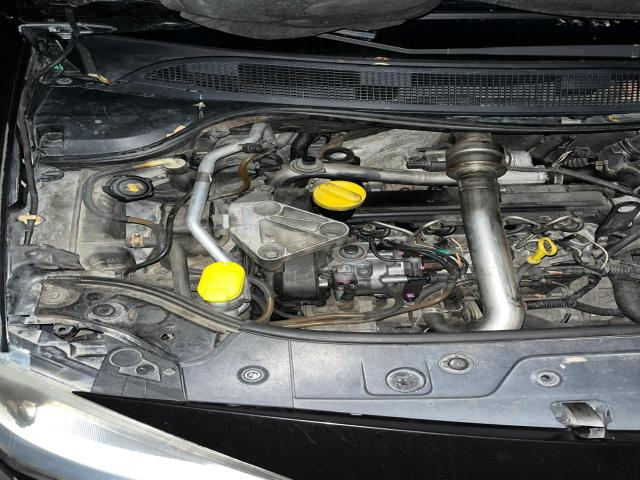alternator: (302, 322, 380, 332)
antifreeze_tank: (32, 169, 140, 273), (92, 173, 155, 215)
high_pressure_pump: (333, 252, 432, 302), (380, 251, 402, 258)
